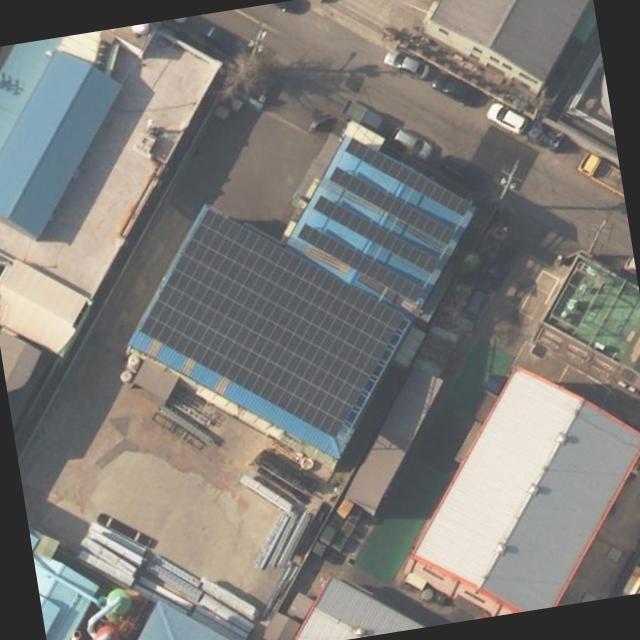solar: (120, 175, 427, 466), (310, 178, 446, 293), (294, 207, 428, 321), (342, 120, 476, 233), (326, 149, 458, 262)
